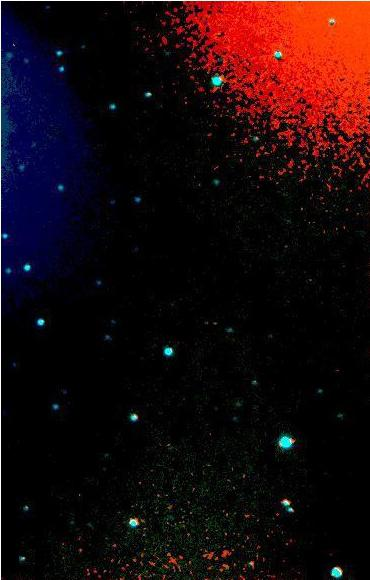star: (200, 304, 230, 334)
